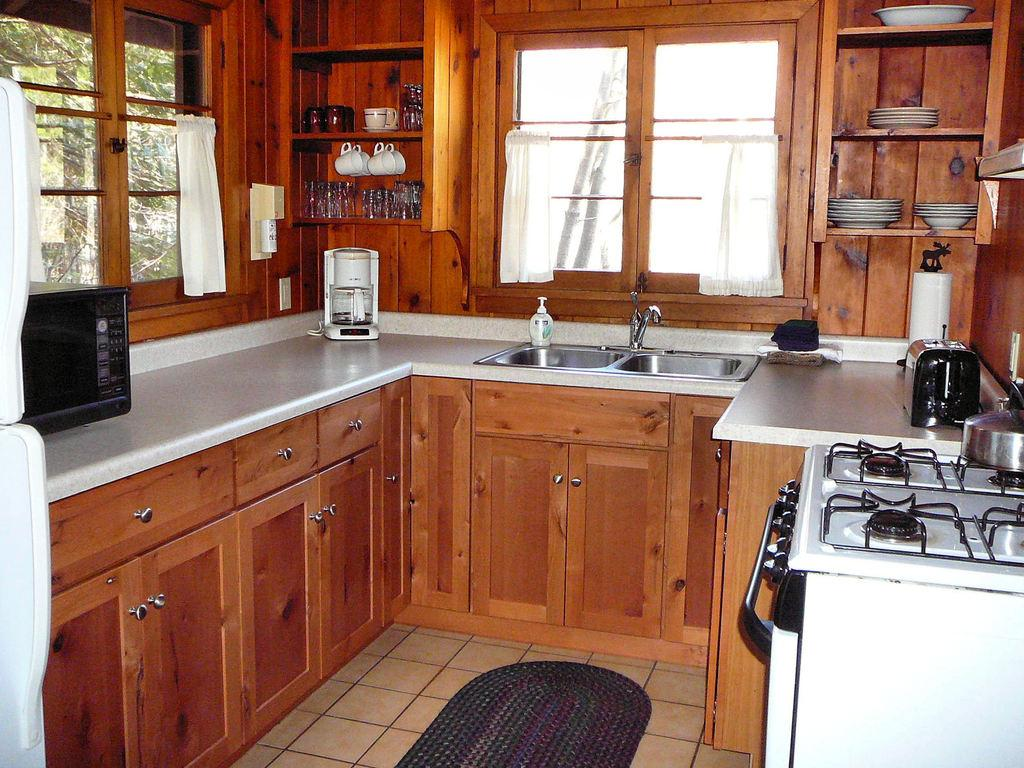cabinet_door: (147, 552, 241, 758), (54, 584, 152, 766), (479, 442, 571, 612), (568, 451, 657, 620), (252, 493, 322, 698), (327, 468, 383, 634), (55, 486, 237, 534), (382, 396, 416, 614), (321, 401, 383, 459), (241, 435, 313, 480)
handle: (735, 506, 787, 648), (120, 598, 150, 630), (276, 434, 300, 472), (126, 502, 158, 530), (146, 584, 170, 616), (346, 404, 368, 438), (546, 463, 568, 495), (567, 465, 587, 495), (324, 490, 342, 522), (312, 502, 326, 530), (386, 467, 400, 493)
